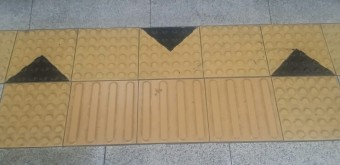guideBlock: (204, 77, 280, 141), (143, 81, 201, 140), (73, 84, 132, 139)
warningBlock: (278, 75, 340, 146), (2, 85, 69, 143), (261, 26, 335, 75), (204, 24, 268, 74), (139, 30, 201, 77), (13, 33, 74, 78), (77, 29, 133, 76)
